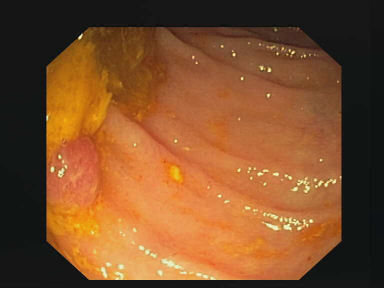polyp: (48, 134, 98, 219)
